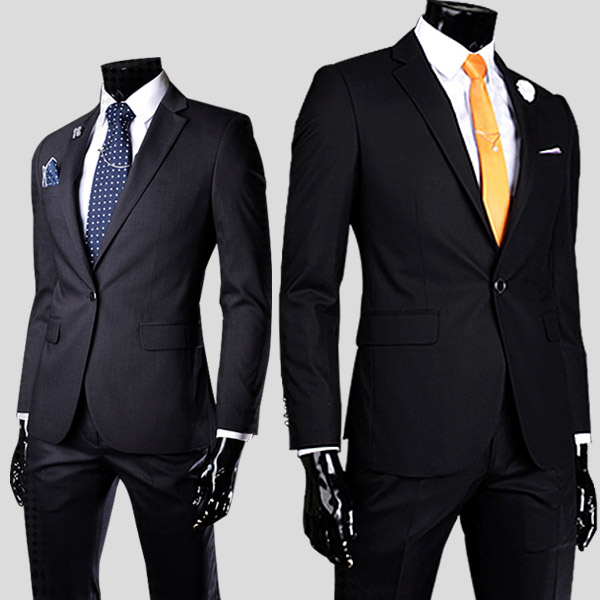F_M_suit jacket: (290, 38, 590, 451), (15, 100, 278, 441)
F_dress pants: (332, 423, 582, 598), (20, 419, 225, 598)
F_pocket square: (36, 154, 64, 190)
F_tie: (460, 53, 513, 242), (85, 103, 140, 260)
